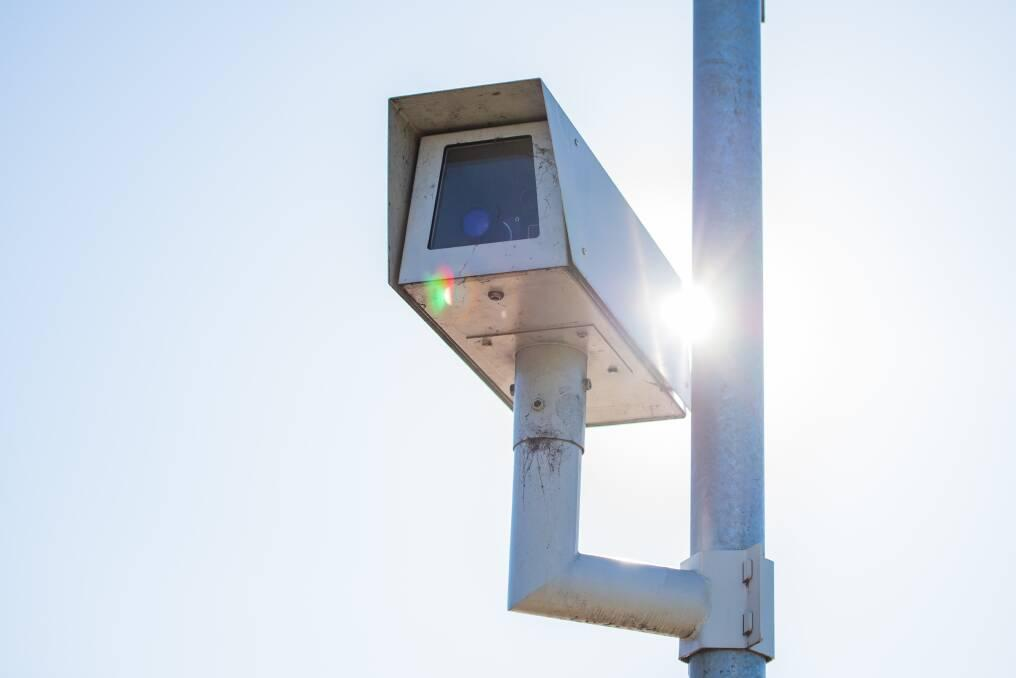Speed-Camera: (373, 74, 710, 428)
